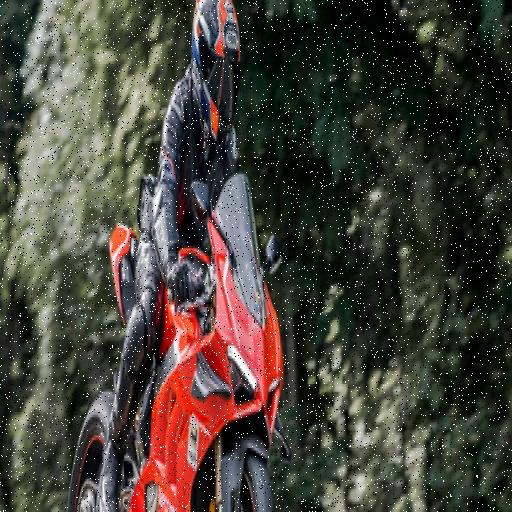Helmet: (184, 12, 256, 154)
Motor: (94, 205, 292, 512)
